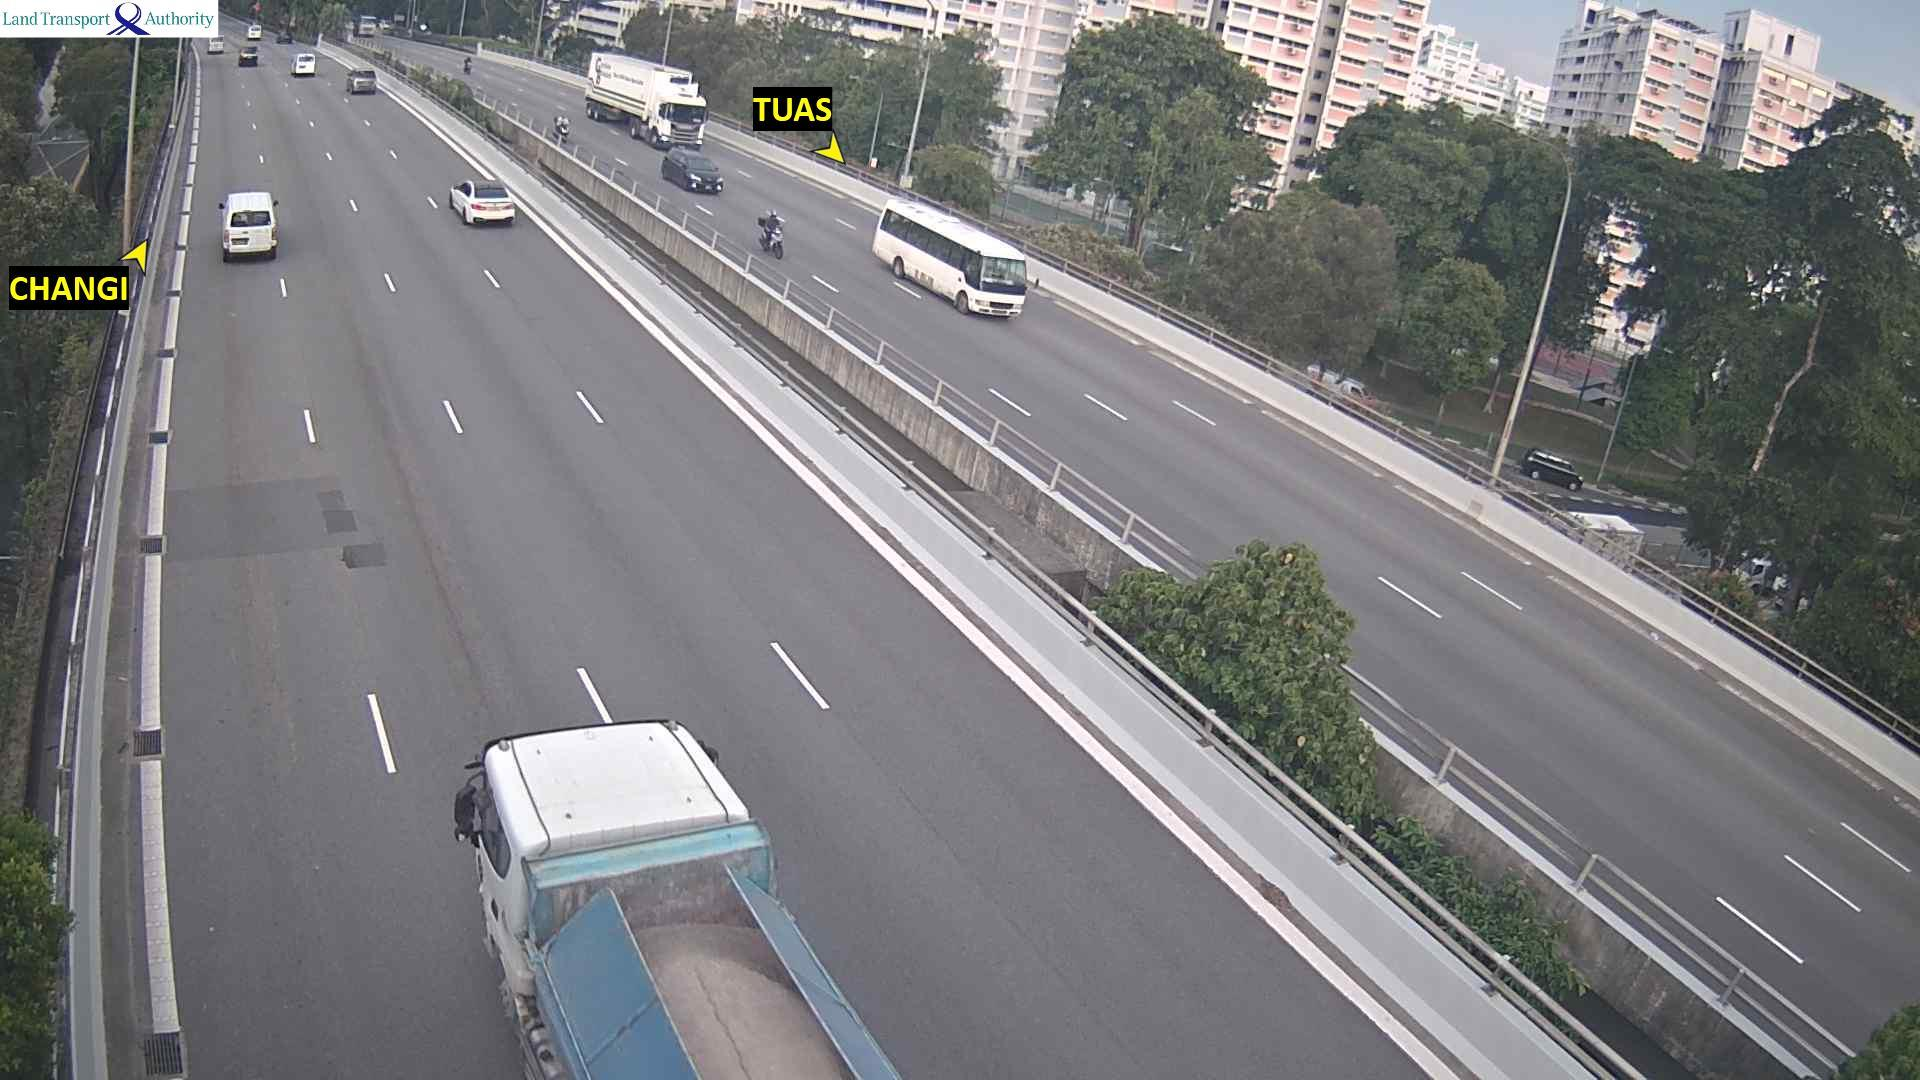incoming: (969, 251, 1041, 318), (654, 90, 708, 150), (680, 158, 725, 193), (770, 226, 787, 261)
